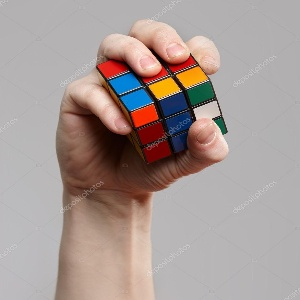cube: (96, 45, 228, 167)
